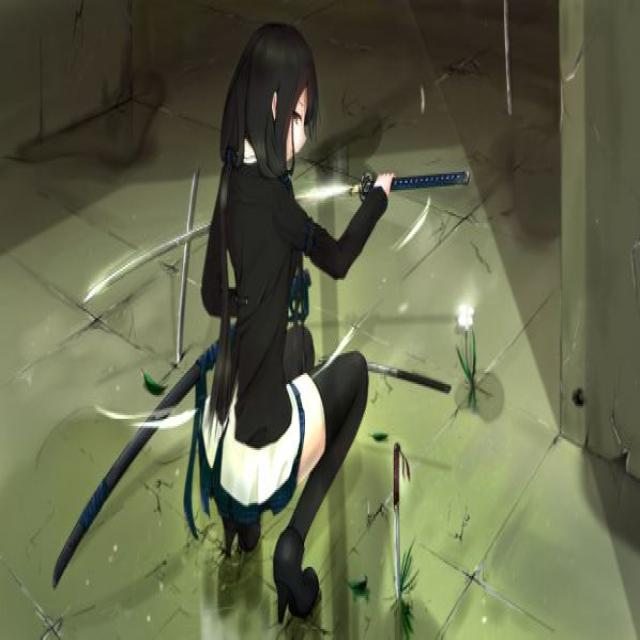knife: (82, 168, 470, 308), (52, 326, 235, 594), (391, 442, 403, 602)
